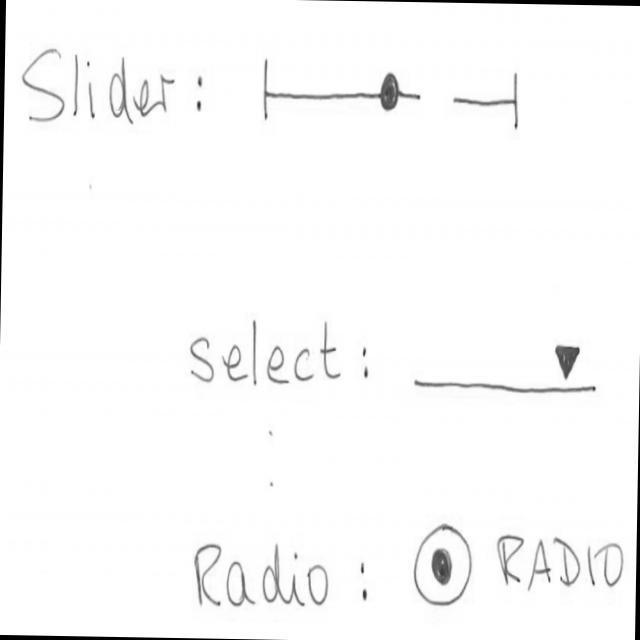radio: (410, 519, 628, 614)
select: (410, 322, 600, 400)
slider: (259, 51, 532, 136)
